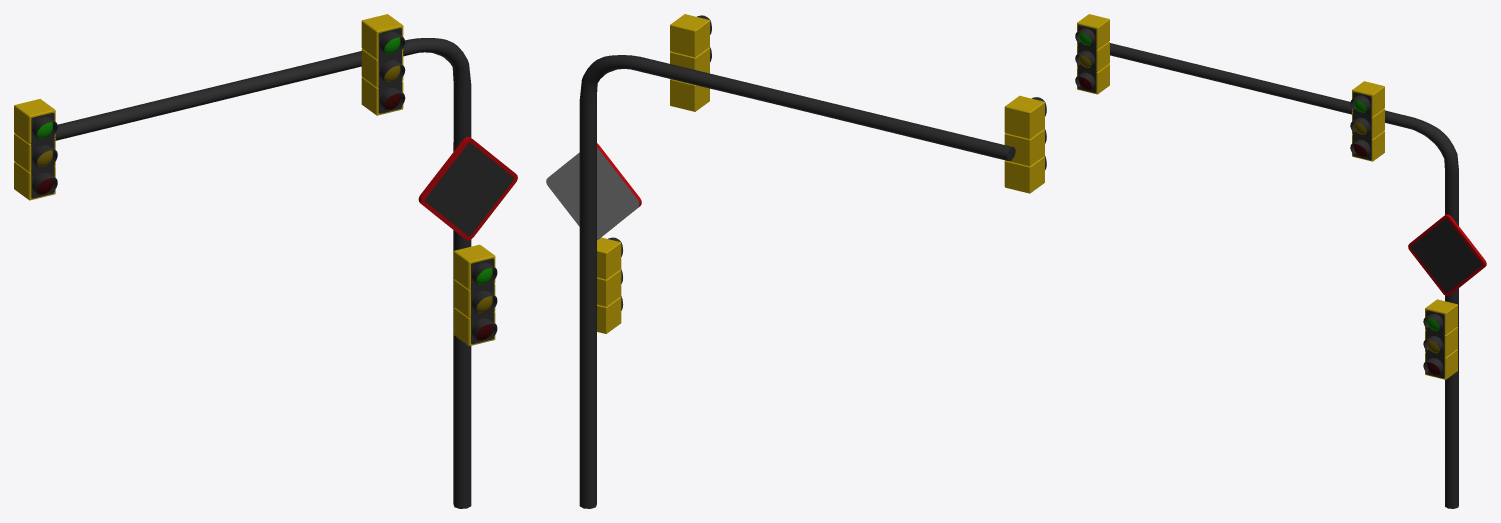
File: Semaforo_Rompible.fbx
3 views of the same model, side by side, from view 1: azimuth 30°, elevation 25°; view 2: azimuth 150°, elevation 25°; view 3: azimuth 330°, elevation 25° (orthographic). The views are drawn at different scales.
Visible parts, largest first — view 1: Semaforo.011, Semaforo.010, Semaforo.003, Semaforo.025, Semaforo.015, Semaforo.022, Semaforo.012, Semaforo, Semaforo.023, Semaforo.001, Semaforo.013; view 2: Semaforo.011, Semaforo.010, Semaforo.015, Semaforo.025, Semaforo.013, Semaforo.023, Semaforo.014, Semaforo.003, Semaforo.002, Semaforo.001, Semaforo.024; view 3: Semaforo.011, Semaforo.010, Semaforo.015, Semaforo.025, Semaforo.003, Semaforo.012, Semaforo, Semaforo.022.
Part boxes in pixels (x1,y1,x2,y2): Semaforo.011: (55,38,471,508); Semaforo.010: (418,137,517,240); Semaforo.003: (453,244,495,289); Semaforo.025: (361,14,403,58); Semaforo.015: (14,99,55,143); Semaforo.022: (378,28,401,113); Semaforo.012: (31,112,54,198); Semaforo: (470,258,494,344); Semaforo.023: (361,77,403,115); Semaforo.001: (453,307,495,346); Semaforo.013: (14,162,55,200); Semaforo.011: (579,55,1015,508); Semaforo.010: (546,143,641,240); Semaforo.015: (1004,95,1044,139); Semaforo.025: (670,14,709,57); Semaforo.013: (1004,156,1044,193); Semaforo.023: (670,79,709,111); Semaforo.014: (1004,129,1044,166); Semaforo.003: (597,237,621,279); Semaforo.002: (597,269,621,306); Semaforo.001: (597,297,621,333); Semaforo.024: (670,47,709,73); Semaforo.011: (1110,43,1458,508); Semaforo.010: (1408,214,1486,296); Semaforo.015: (1077,14,1109,49); Semaforo.025: (1352,81,1384,116); Semaforo.003: (1425,299,1457,334); Semaforo.012: (1078,25,1096,92); Semaforo: (1426,310,1444,378); Semaforo.022: (1353,92,1371,160).
Size of the model in its own units: 55.96 by 54.81 by 6.26.
